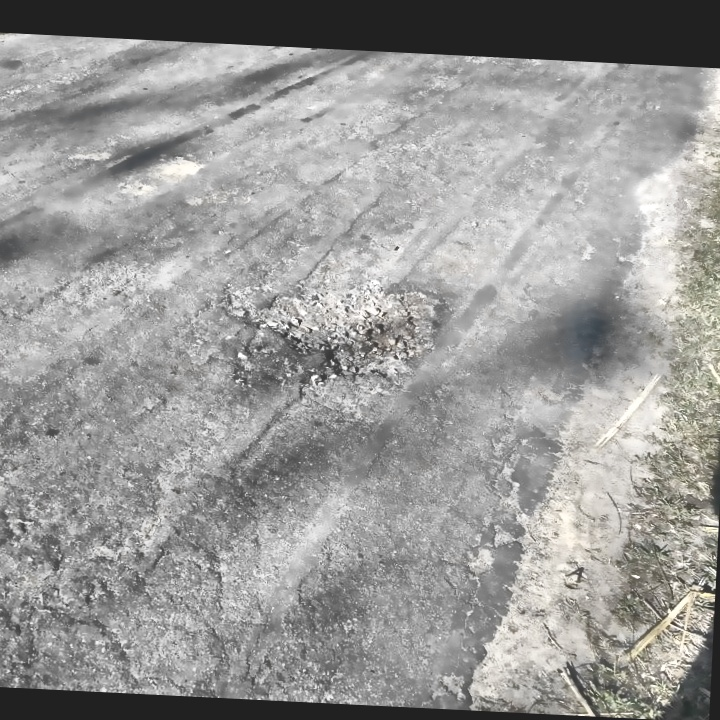pothole: (220, 271, 452, 387)
